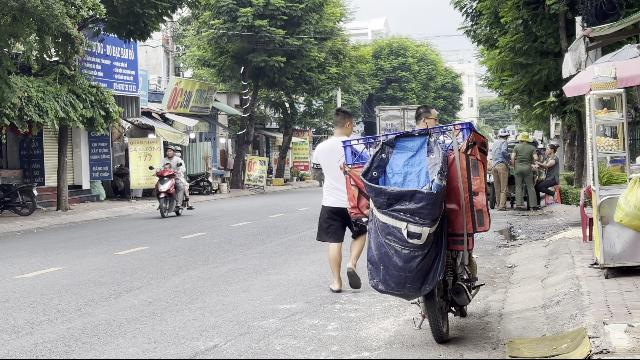helmet: (164, 145, 174, 157)
motorcyclist: (152, 145, 192, 219)
